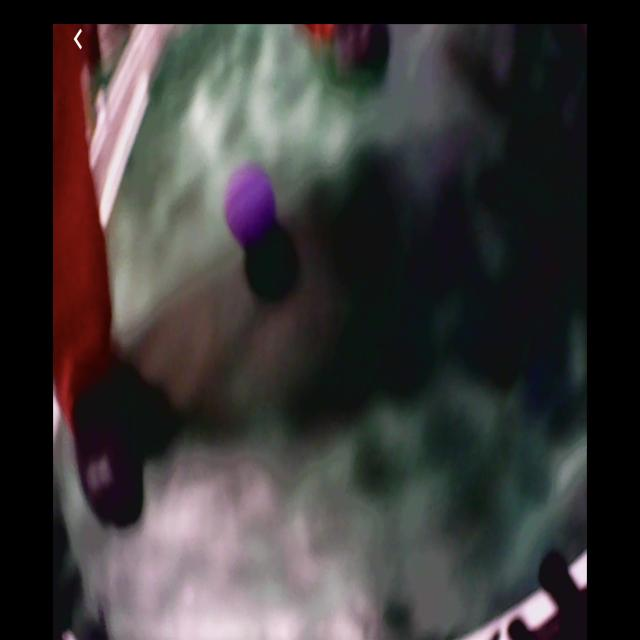ball: (226, 168, 277, 247)
